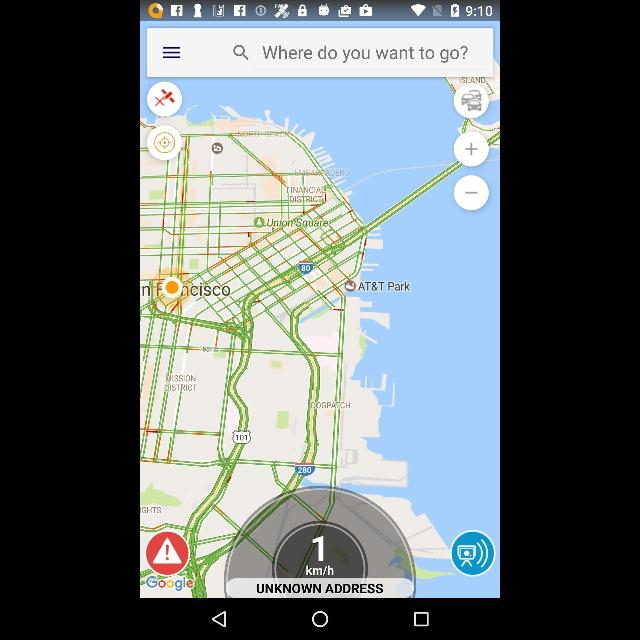icon: (312, 610, 328, 628), (162, 46, 182, 60), (212, 610, 226, 628), (234, 45, 248, 61), (415, 612, 429, 626)
input: (147, 28, 493, 76)
map: (140, 77, 500, 598)
panel: (140, 598, 500, 640)
uppertaskbar: (141, 0, 499, 20)
